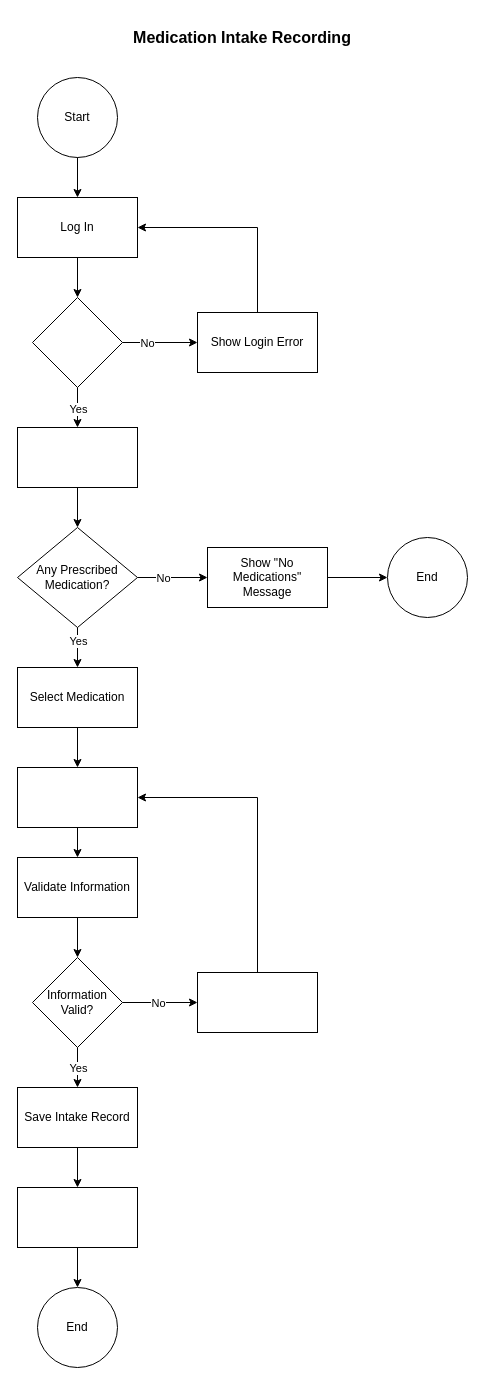
This 485x1385 diagram has some shape labels left out. The shapes that lost their labels are listed below. From the top down, each one's centre as x and y in pixels, then its label:
point (77, 342): Credentials Valid?
point (77, 457): Open Record Medication Page
point (77, 797): Enter Intake Date/Time
point (257, 1002): Show Error Message
point (77, 1217): Show Confirmation Message
